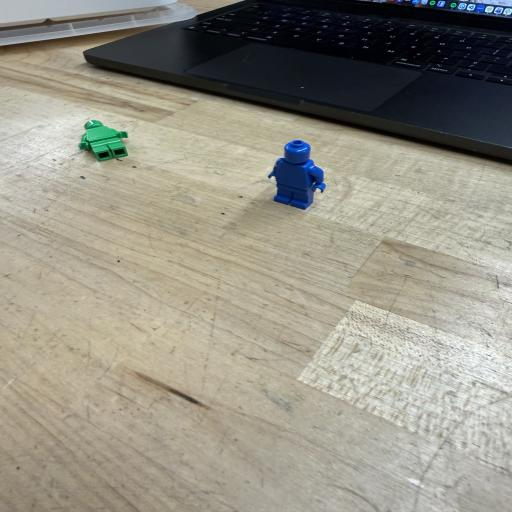blue-minifig: (269, 140, 325, 209)
green-minifig: (79, 120, 128, 161)
